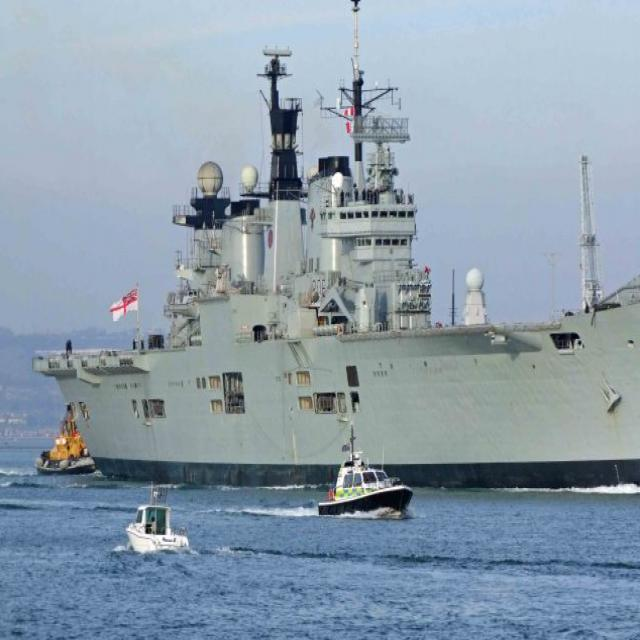Portanaves: (22, 1, 640, 504)
